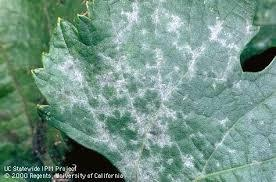powdery_mildew: (35, 10, 276, 181)
